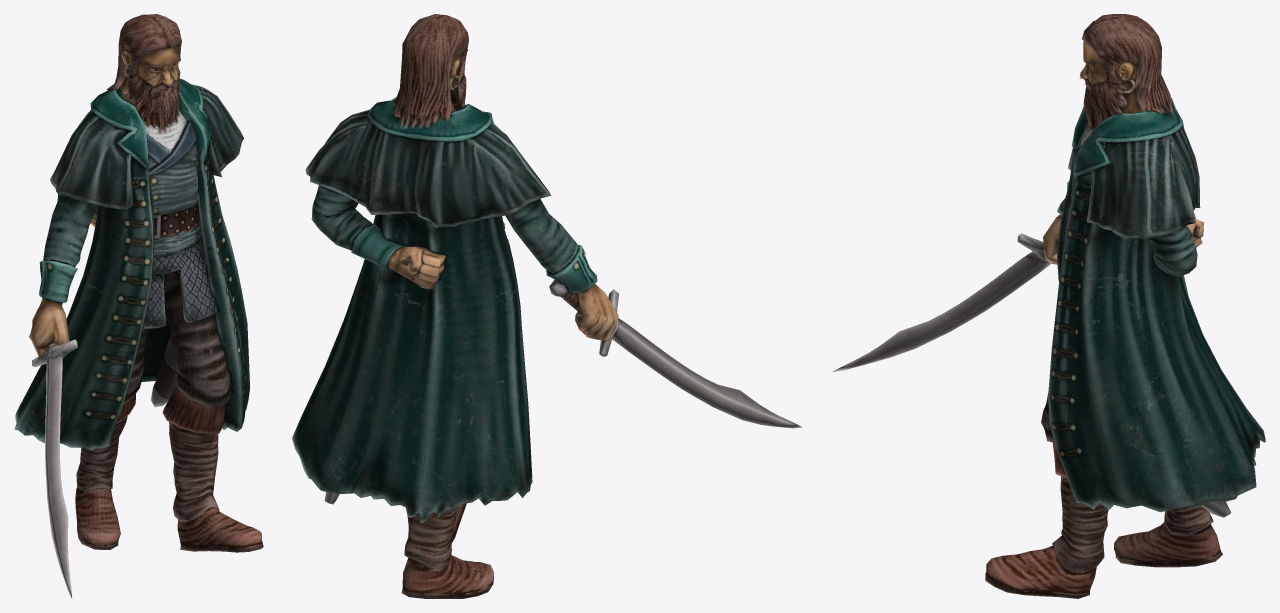
File: MZ4250 - Bandit Captain Male 02.glb
The picture shows the model from 3 angles, left to right: view 1: azimuth 30°, elevation 25°; view 2: azimuth 150°, elevation 25°; view 3: azimuth 270°, elevation 25°; orthographic projection. The views are drawn at different scales.
Parts seen in each view (by area): view 1: BanditCaptainMale01; view 2: BanditCaptainMale01; view 3: BanditCaptainMale01.
Part boxes in pixels (<box>): BanditCaptainMale01: <box>14,14,263,598</box>; BanditCaptainMale01: <box>292,14,802,598</box>; BanditCaptainMale01: <box>831,14,1265,598</box>.
Size of the model in its own units: 0.6784 by 1.06 by 0.7359.
Materials: 1 (1 with a texture image).
